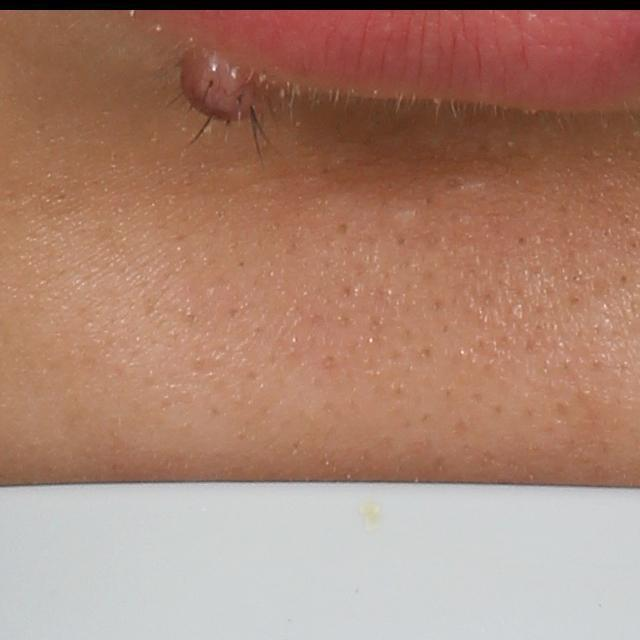comedo: (437, 170, 473, 198)
other: (170, 41, 278, 133)
